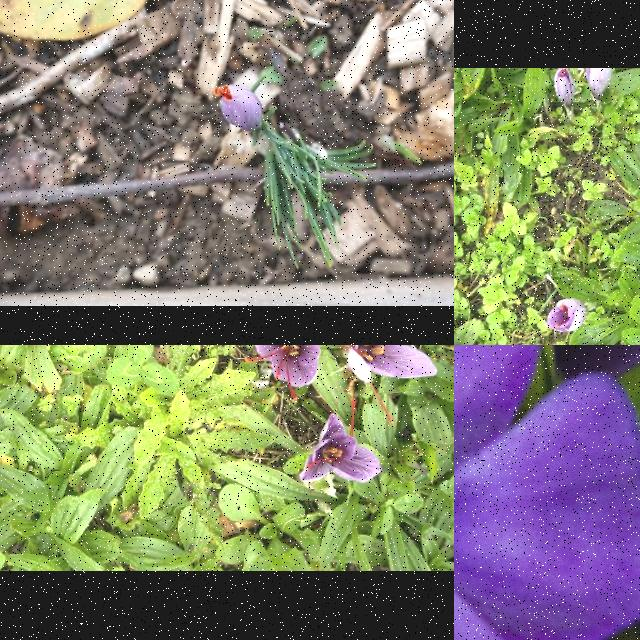flower: (303, 345, 439, 424), (298, 398, 384, 482), (244, 345, 321, 399), (212, 84, 262, 132), (546, 300, 586, 332), (554, 68, 574, 105)
